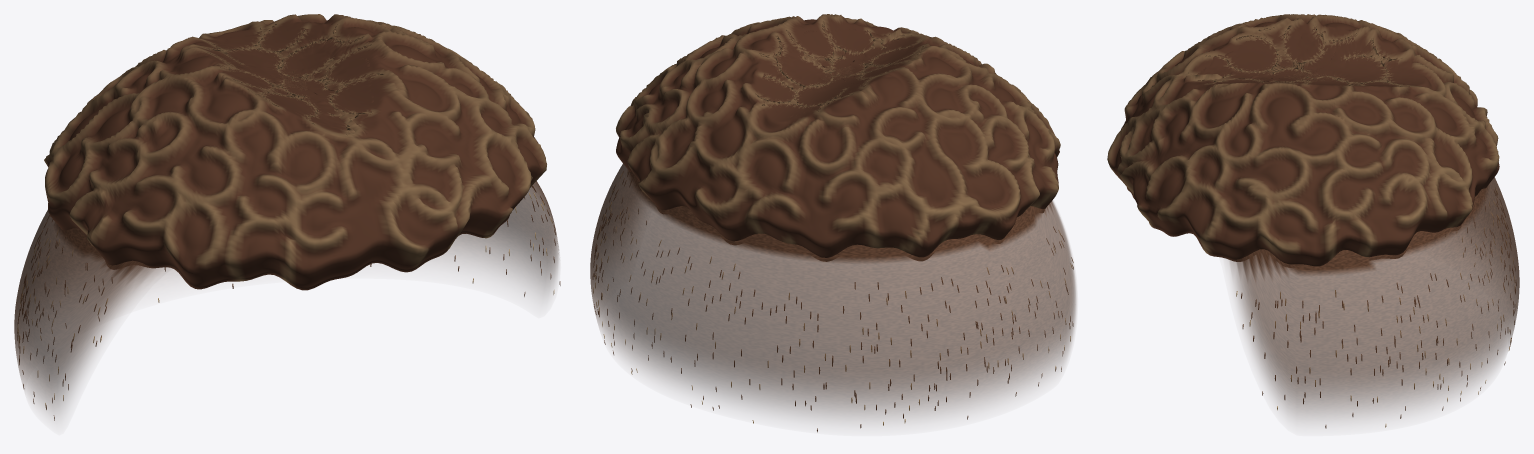
The model's file is Highlights-6b1df6ffddad251-hair.glb.
3 renders of one model, left to right at view 1: azimuth 30°, elevation 25°; view 2: azimuth 150°, elevation 25°; view 3: azimuth 270°, elevation 25°, orthographic. The views are drawn at different scales.
Visible parts, largest first — view 1: 226 hair / Hair / sculpted curly crown251.001, 226 hair / Hair / clipped grain251.001, 226 hair / Hair / close cut strokes251.001; view 2: 226 hair / Hair / clipped grain251.001, 226 hair / Hair / sculpted curly crown251.001, 226 hair / Hair / close cut strokes251.001; view 3: 226 hair / Hair / sculpted curly crown251.001, 226 hair / Hair / clipped grain251.001, 226 hair / Hair / close cut strokes251.001.
Part boxes in pixels (left/top/right/bottom): 226 hair / Hair / sculpted curly crown251.001: left=44, top=14, right=546, bottom=290; 226 hair / Hair / clipped grain251.001: left=14, top=70, right=559, bottom=415; 226 hair / Hair / close cut strokes251.001: left=17, top=185, right=560, bottom=420; 226 hair / Hair / clipped grain251.001: left=590, top=66, right=1076, bottom=420; 226 hair / Hair / sculpted curly crown251.001: left=616, top=14, right=1060, bottom=261; 226 hair / Hair / close cut strokes251.001: left=593, top=171, right=1073, bottom=432; 226 hair / Hair / sculpted curly crown251.001: left=1107, top=14, right=1499, bottom=266; 226 hair / Hair / clipped grain251.001: left=1227, top=71, right=1519, bottom=420; 226 hair / Hair / close cut strokes251.001: left=1236, top=188, right=1516, bottom=428.
Bounding box in the file's own units: 0.9812 × 0.6362 × 0.8042.
Materials: 3 (1 with a texture image).
